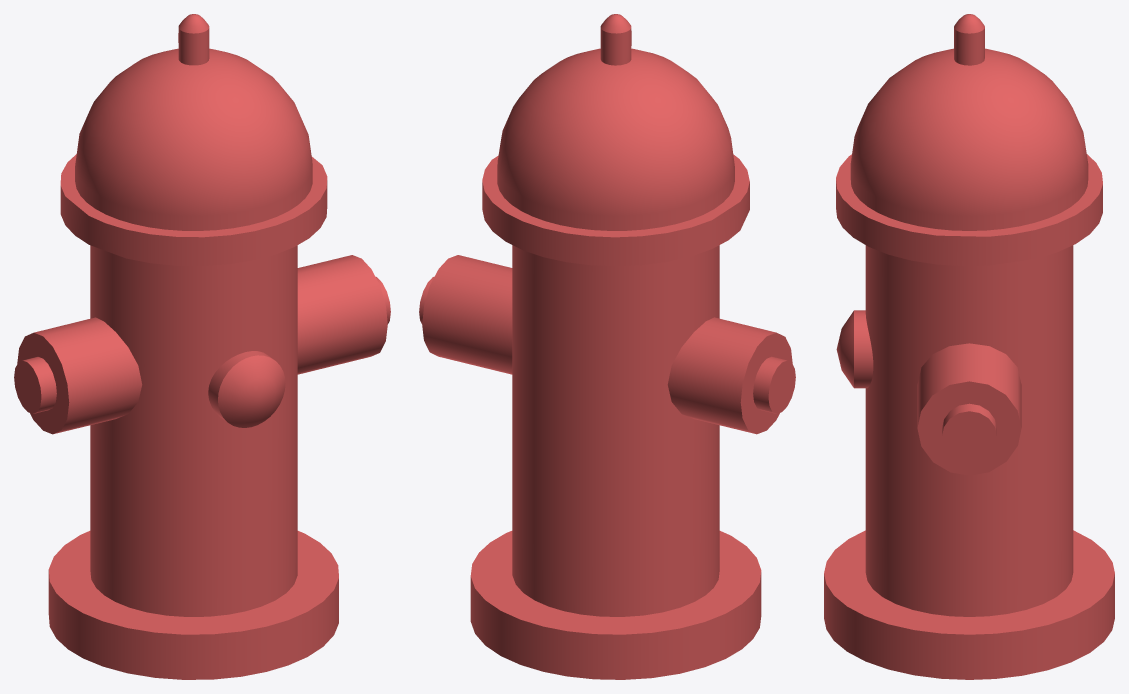
Rendered from 3dthrow_fireeliminater.fbx.
3 renders of one model, left to right at view 1: azimuth 30°, elevation 25°; view 2: azimuth 150°, elevation 25°; view 3: azimuth 270°, elevation 25°, orthographic.
Visible parts, largest first — view 1: 物件_1; view 2: 物件_1; view 3: 物件_1.
Part boxes in pixels (x1=…): 物件_1: x1=14, y1=14, x2=390, y2=679; 物件_1: x1=419, y1=14, x2=795, y2=679; 物件_1: x1=824, y1=14, x2=1114, y2=679.
Bounding box in the file's own units: 21.46 × 15.48 × 35.46.
